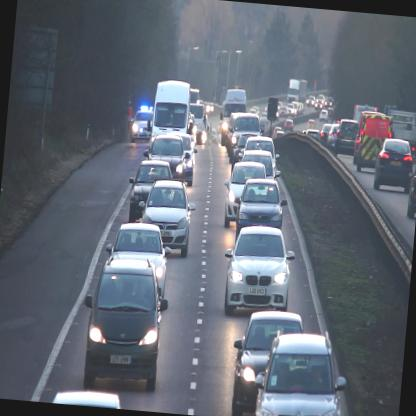car: (77, 255, 173, 397), (252, 329, 351, 415), (227, 308, 306, 415), (220, 222, 296, 318), (102, 222, 172, 298), (134, 176, 198, 256), (232, 178, 288, 240), (221, 160, 266, 231), (125, 158, 173, 224), (142, 132, 192, 184), (372, 138, 415, 192), (229, 112, 264, 164), (236, 150, 282, 185), (237, 134, 282, 164), (176, 132, 197, 188), (334, 117, 358, 159), (130, 109, 153, 143), (406, 154, 415, 221)
truck: (150, 80, 190, 146), (221, 88, 249, 148)
